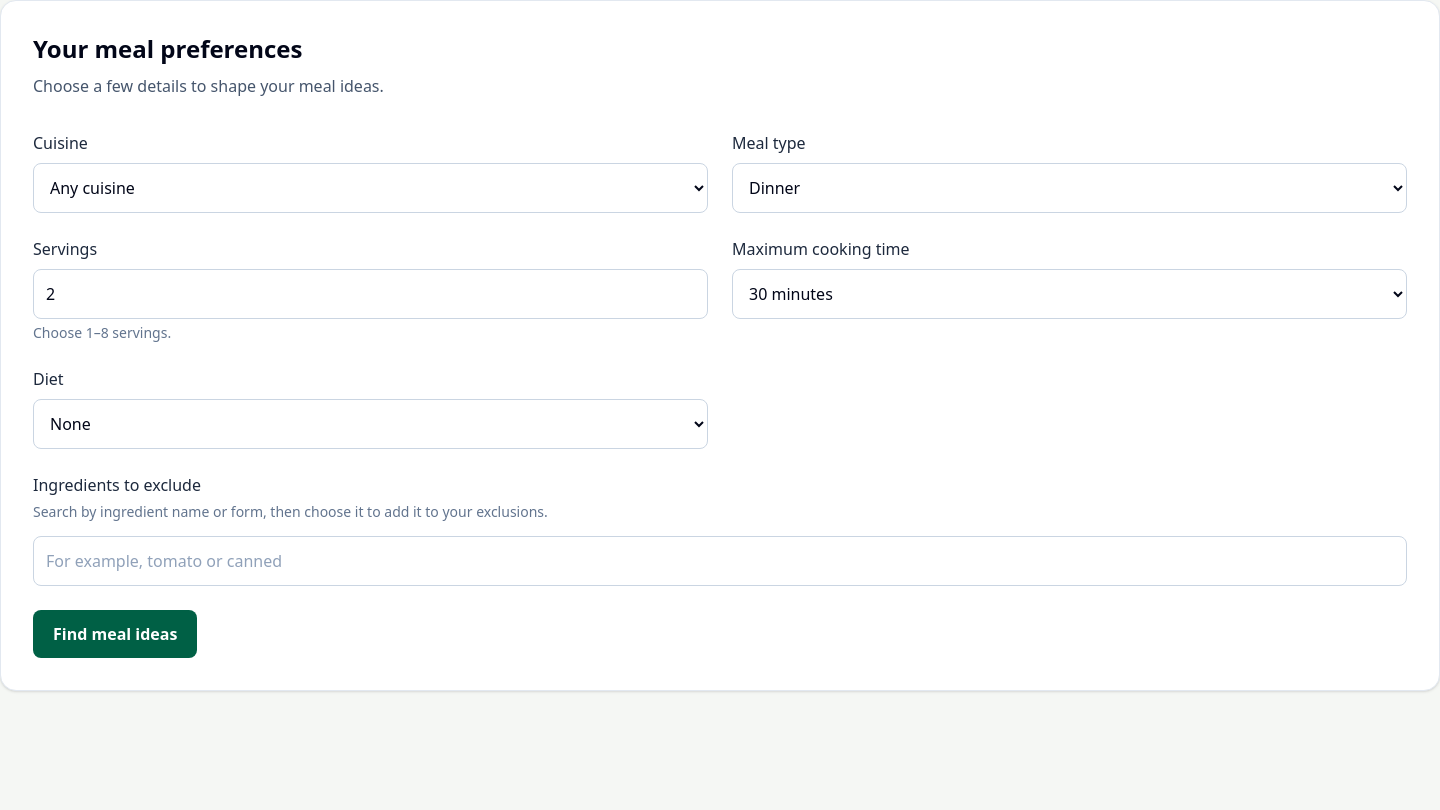
Scenario: preference options and form › keeps successful suggestions and form values after a later request fails
Select "Irish" in the dropdown labelled "Cuisine". click: [370, 188]
box: [33,163,708,213]
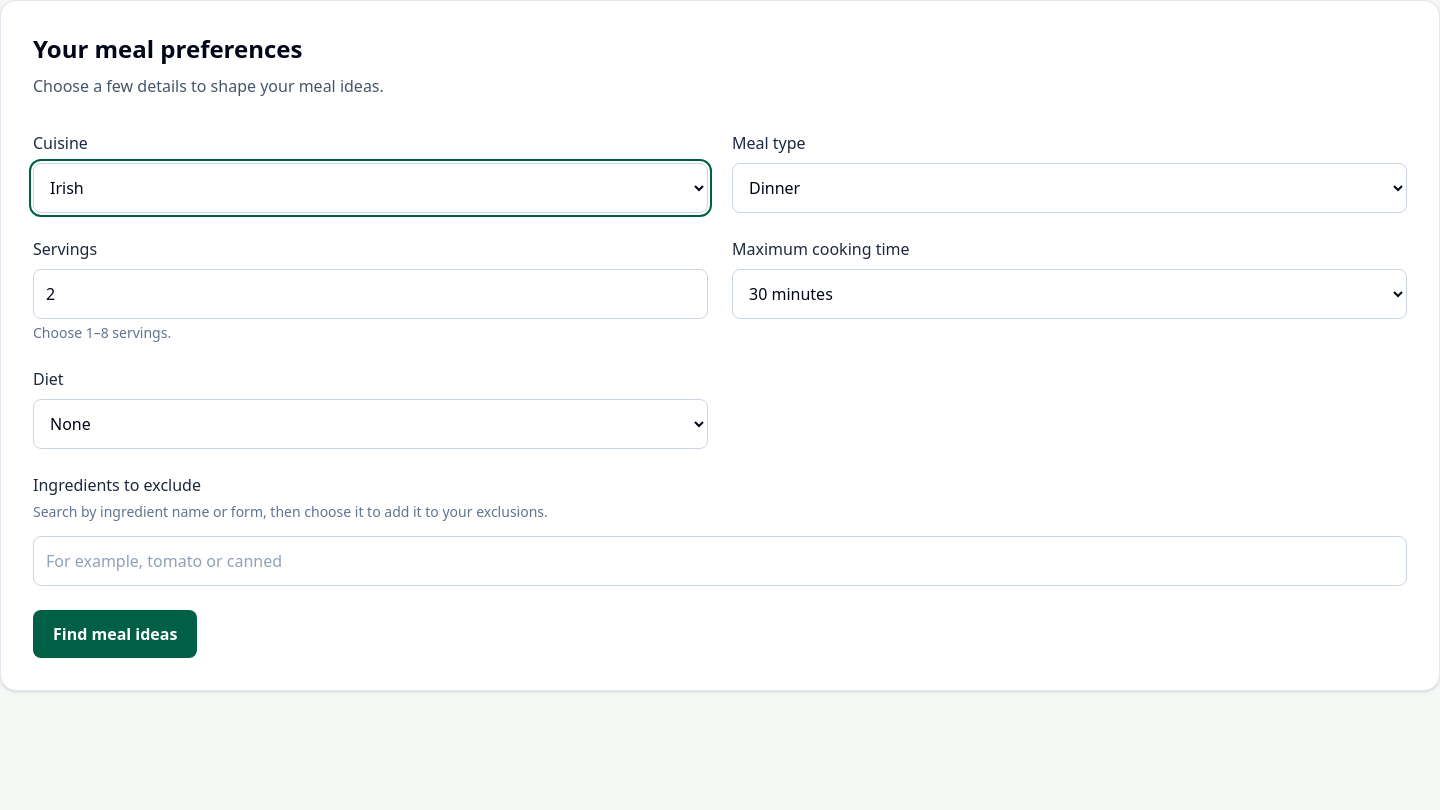
Click the button "Find meal ideas". click: [115, 634]
box: [33,610,197,658]
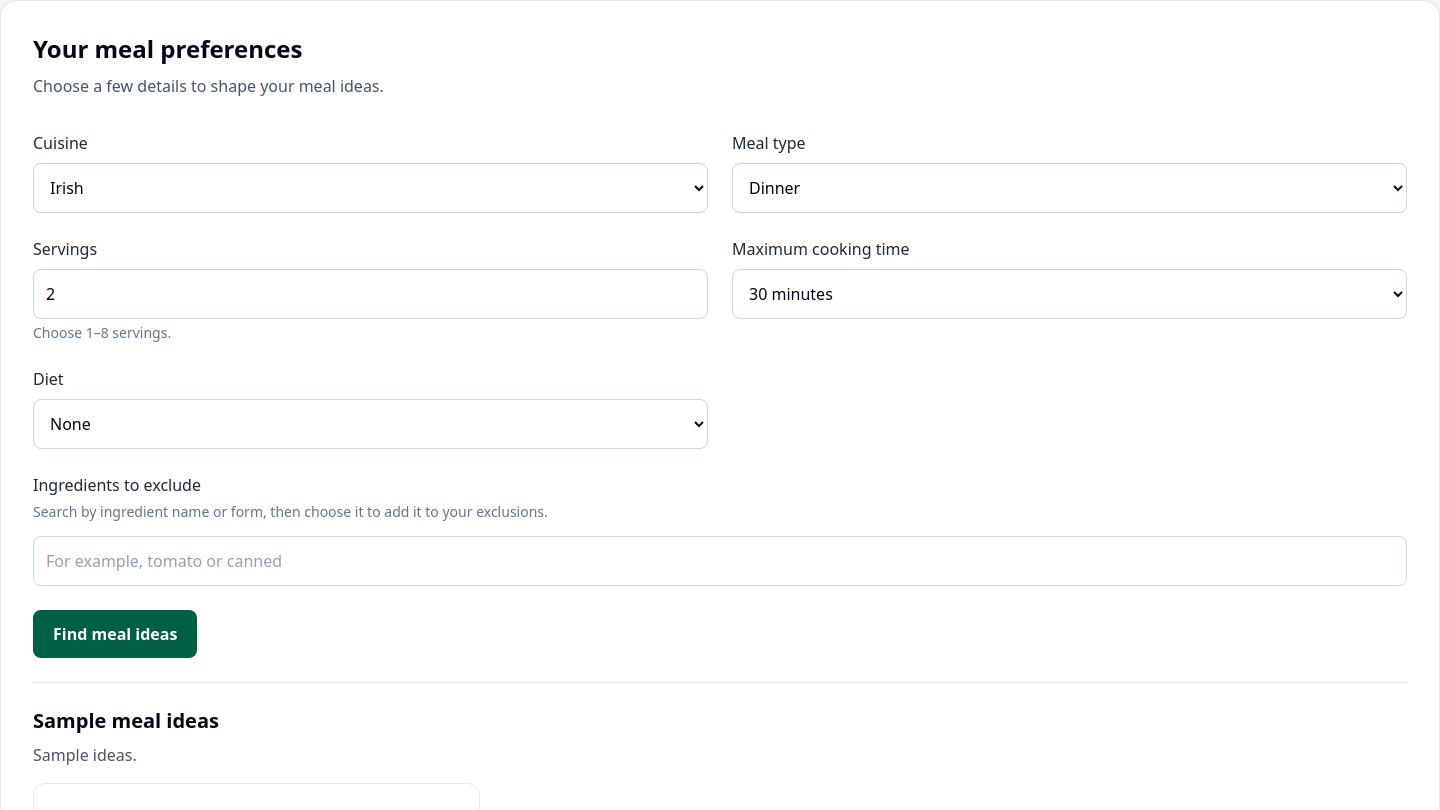
Select "Vietnamese" in the dropdown labelled "Cuisine". click: [370, 188]
box: [33,163,708,213]
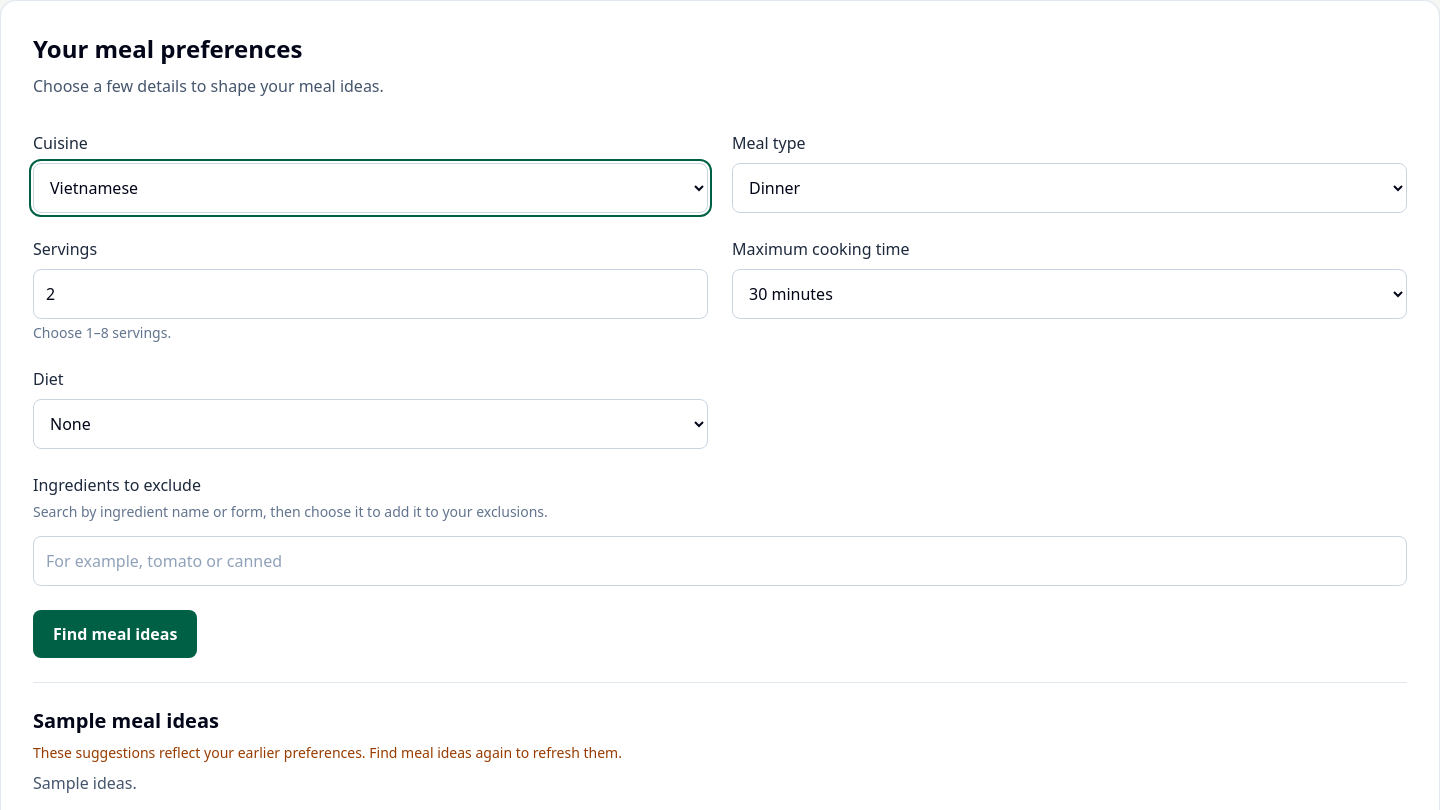
Click the button "Find meal ideas". click: [115, 634]
box: [33,610,197,658]
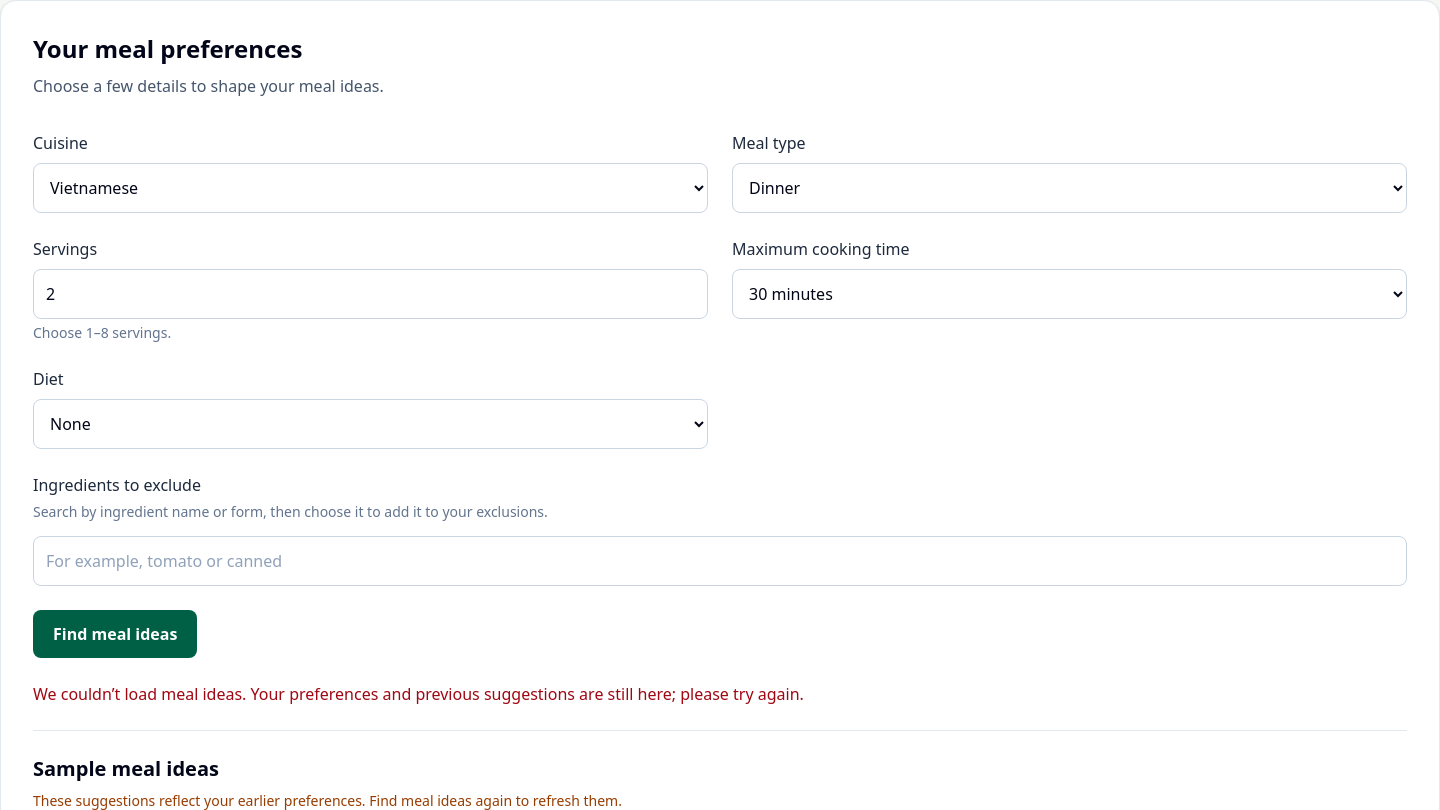
Expected: the text "earlier preferences" is shown, [33,791,622,809]
Expected: the message shows "previous suggestions are still here", [378,683,672,705]
